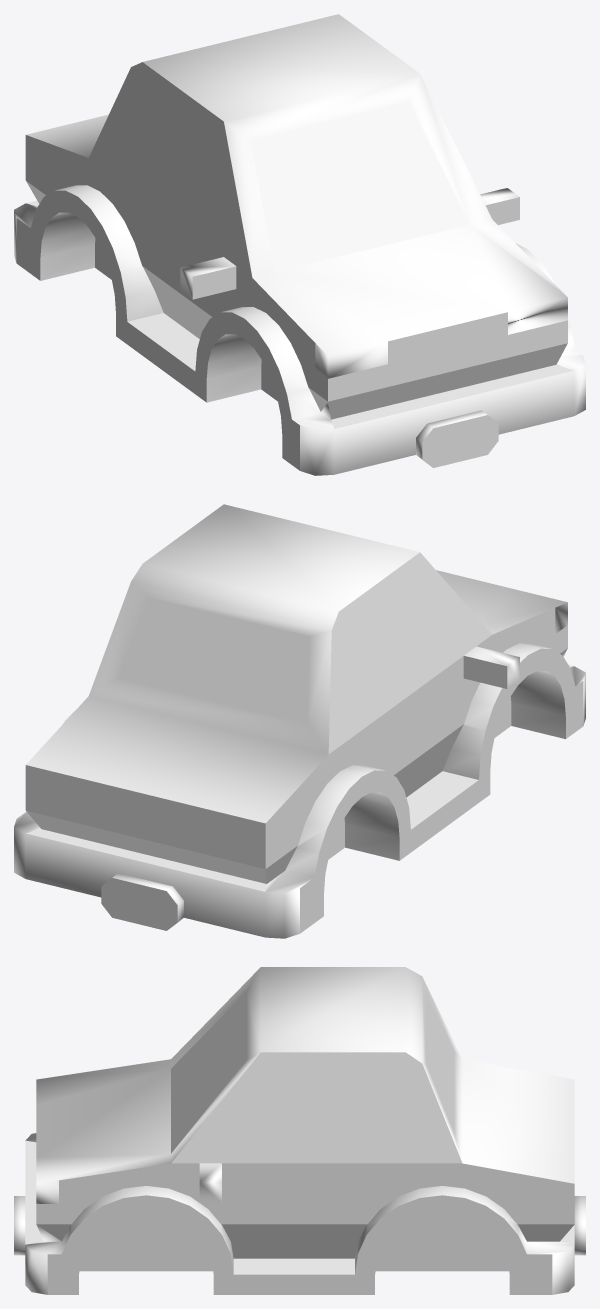
The model's file is sedan-vehicle.glb.
3 renders of one model, top to bottom at view 1: azimuth 30°, elevation 25°; view 2: azimuth 150°, elevation 25°; view 3: azimuth 270°, elevation 25°, orthographic. The views are drawn at different scales.
Parts seen in each view (by area): view 1: sedan-vehicle; view 2: sedan-vehicle; view 3: sedan-vehicle.
Part boxes in pixels (<box>): sedan-vehicle: <box>14,14,585,475</box>; sedan-vehicle: <box>14,504,585,938</box>; sedan-vehicle: <box>14,967,585,1294</box>.
Bounding box in the file's own units: 1.5 × 1.15 × 2.55.
1 material, 1 textured.
